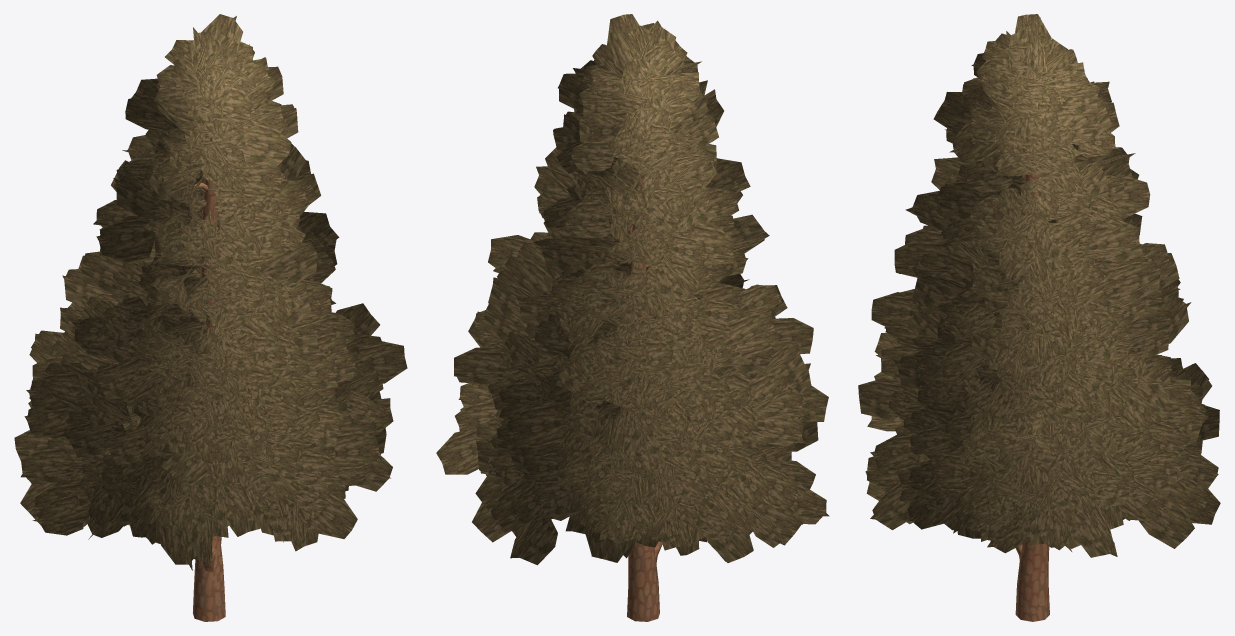
File: P_FirTree4.obj
3 renders of one model, left to right at view 1: azimuth 30°, elevation 25°; view 2: azimuth 150°, elevation 25°; view 3: azimuth 270°, elevation 25°, orthographic.
Bounding box in the file's own units: 20.91 × 33.93 × 18.5.
